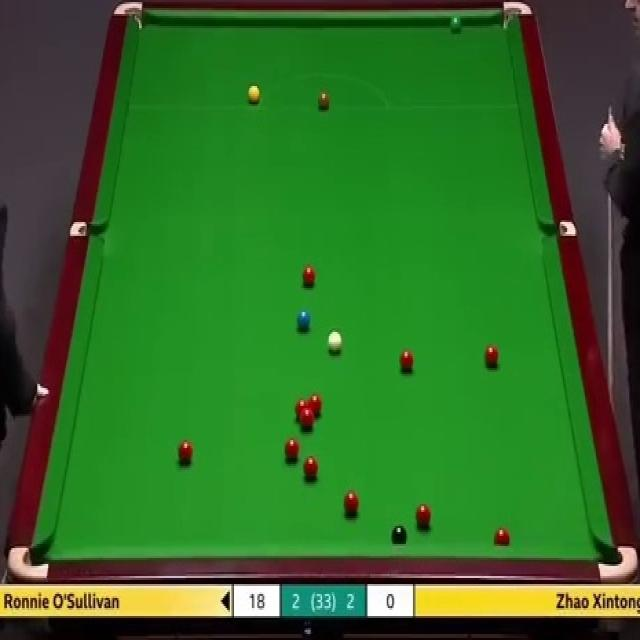black-ball: (389, 524, 407, 546)
blue-ball: (295, 308, 311, 333)
brown-ball: (316, 88, 330, 111)
green-ball: (449, 13, 464, 32)
red-ball: (398, 347, 416, 375), (341, 490, 359, 517), (302, 455, 319, 483), (414, 503, 431, 529), (284, 437, 300, 463), (302, 266, 318, 290), (178, 441, 194, 465), (484, 343, 499, 368), (308, 394, 322, 418), (494, 526, 510, 546), (301, 410, 314, 430), (295, 398, 308, 418)
white-ball: (325, 328, 343, 356)
yellow-ball: (246, 83, 260, 103)
